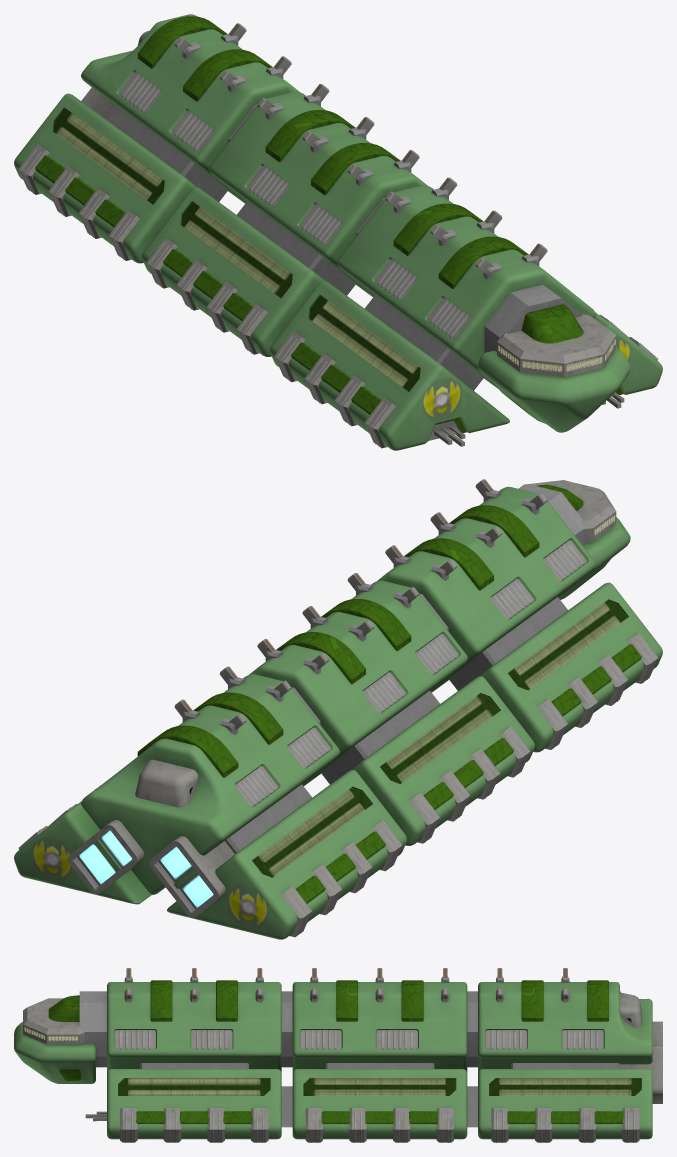
Rendered from rainmaker_empire.gltf.
The picture shows the model from 3 angles, top to bottom: view 1: azimuth 30°, elevation 25°; view 2: azimuth 150°, elevation 25°; view 3: azimuth 270°, elevation 25°; orthographic projection. The views are drawn at different scales.
Visible parts, largest first — view 1: Base; view 2: Base; view 3: Base.
Boxes of the visible parts, x1=… form: Base: x1=14, y1=14, x2=662, y2=450; Base: x1=14, y1=479, x2=662, y2=939; Base: x1=14, y1=968, x2=662, y2=1142.
Size of the model in its own units: 10.97 by 5.94 by 29.73.
Materials: 1 (1 with a texture image).
